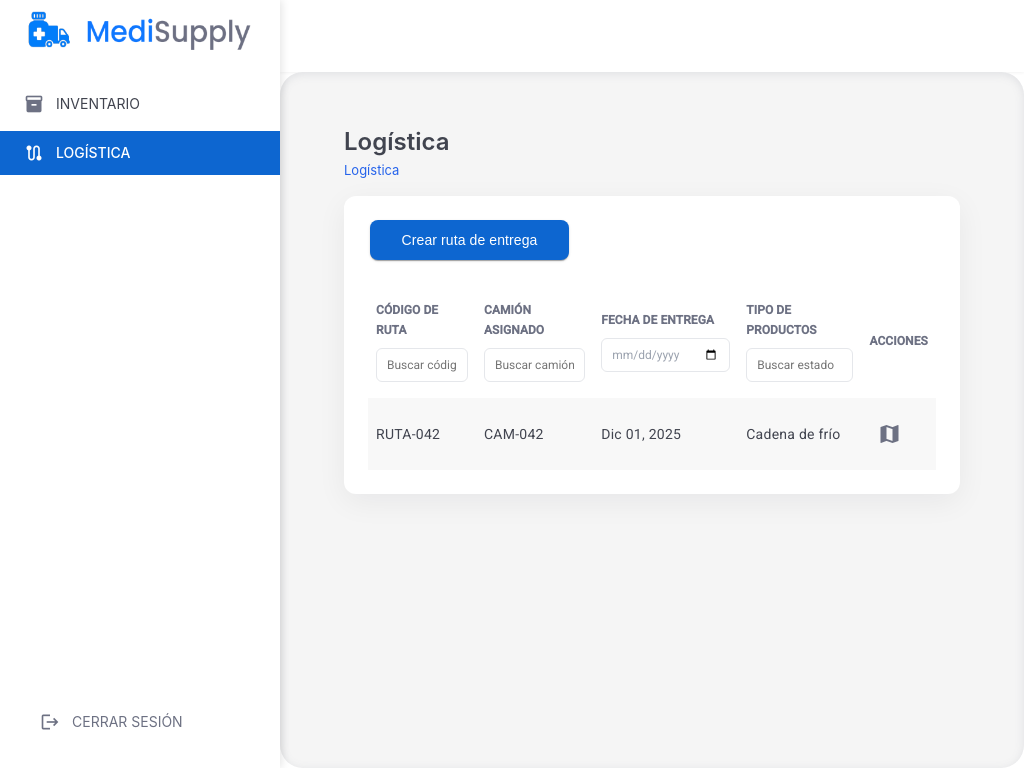
Test: Logística - Mapa de ruta › muestra overlay de carga del mapa y permite volver
Click the button named "Ver ruta en mapa" at coordinates (889, 434), box [869,414,909,454]
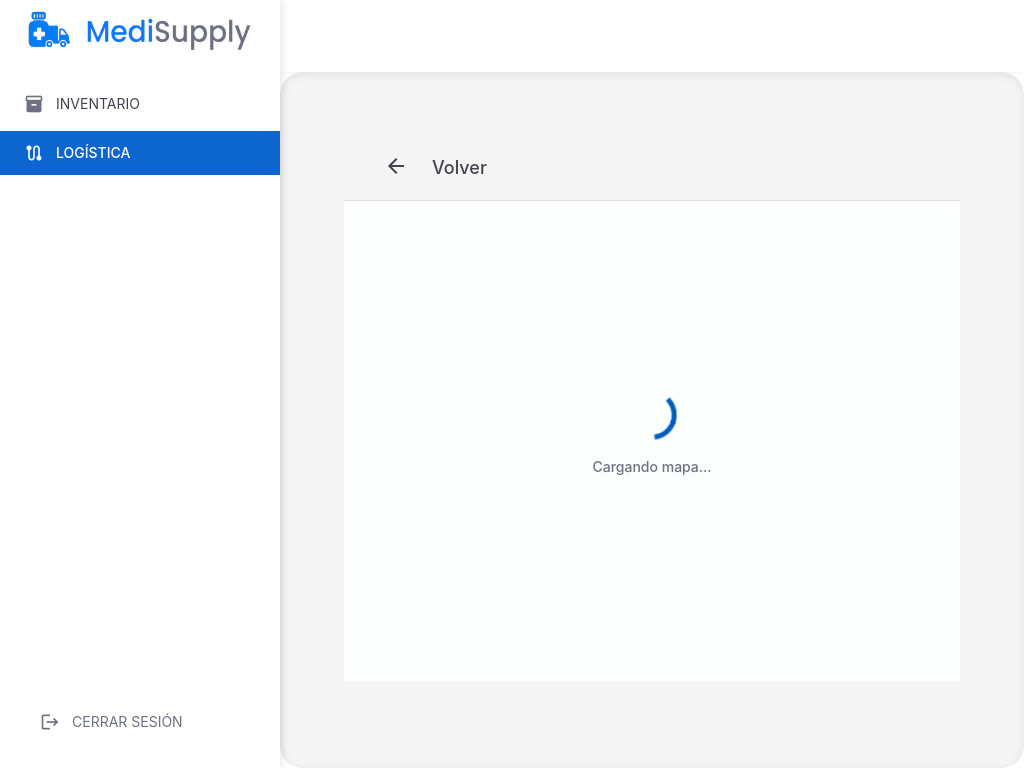
Now the element with class "loading-overlay" is shown, box [344,201,960,681]
Click the button with class "back-btn" at coordinates (396, 164), box [376,144,416,184]
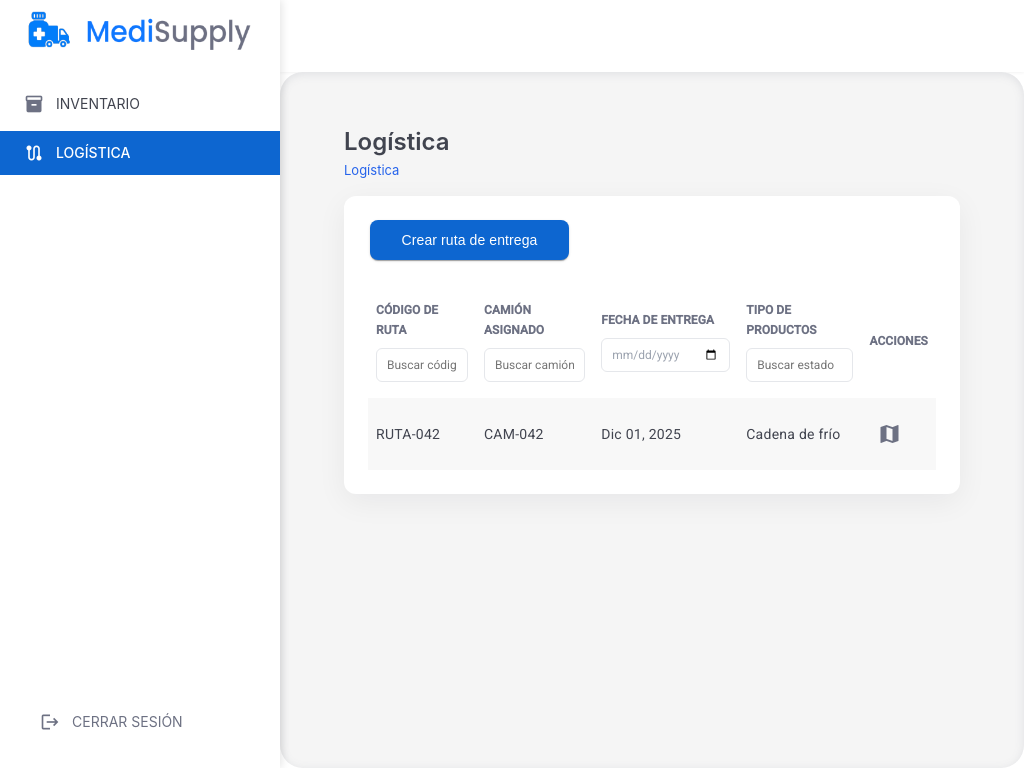
Now the table with class "routes-table" is shown, box [368,284,936,470]
